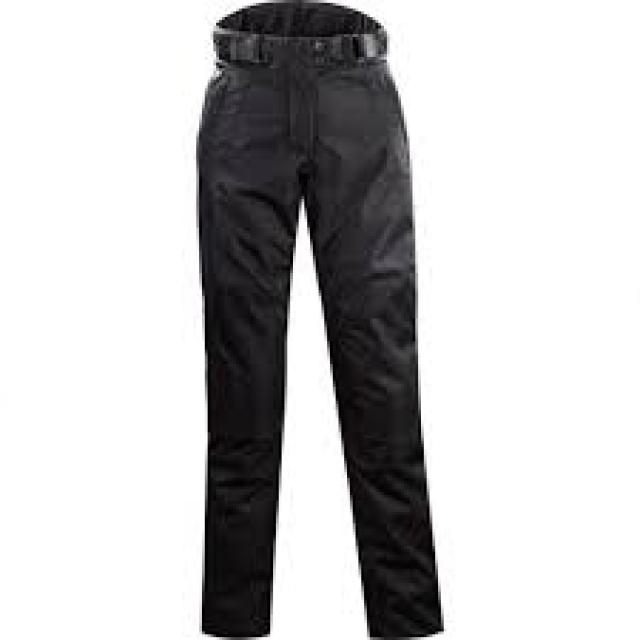long-pants: (195, 1, 443, 640)
